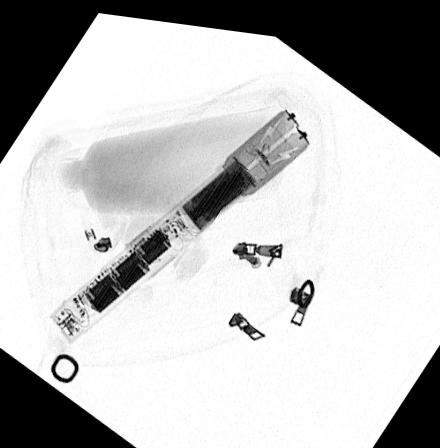Baton: (45, 99, 312, 344)
